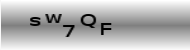7: (60, 23, 75, 38)
F: (99, 22, 112, 36)
Q: (79, 12, 97, 29)
s: (29, 16, 41, 27)
w: (44, 12, 63, 23)
